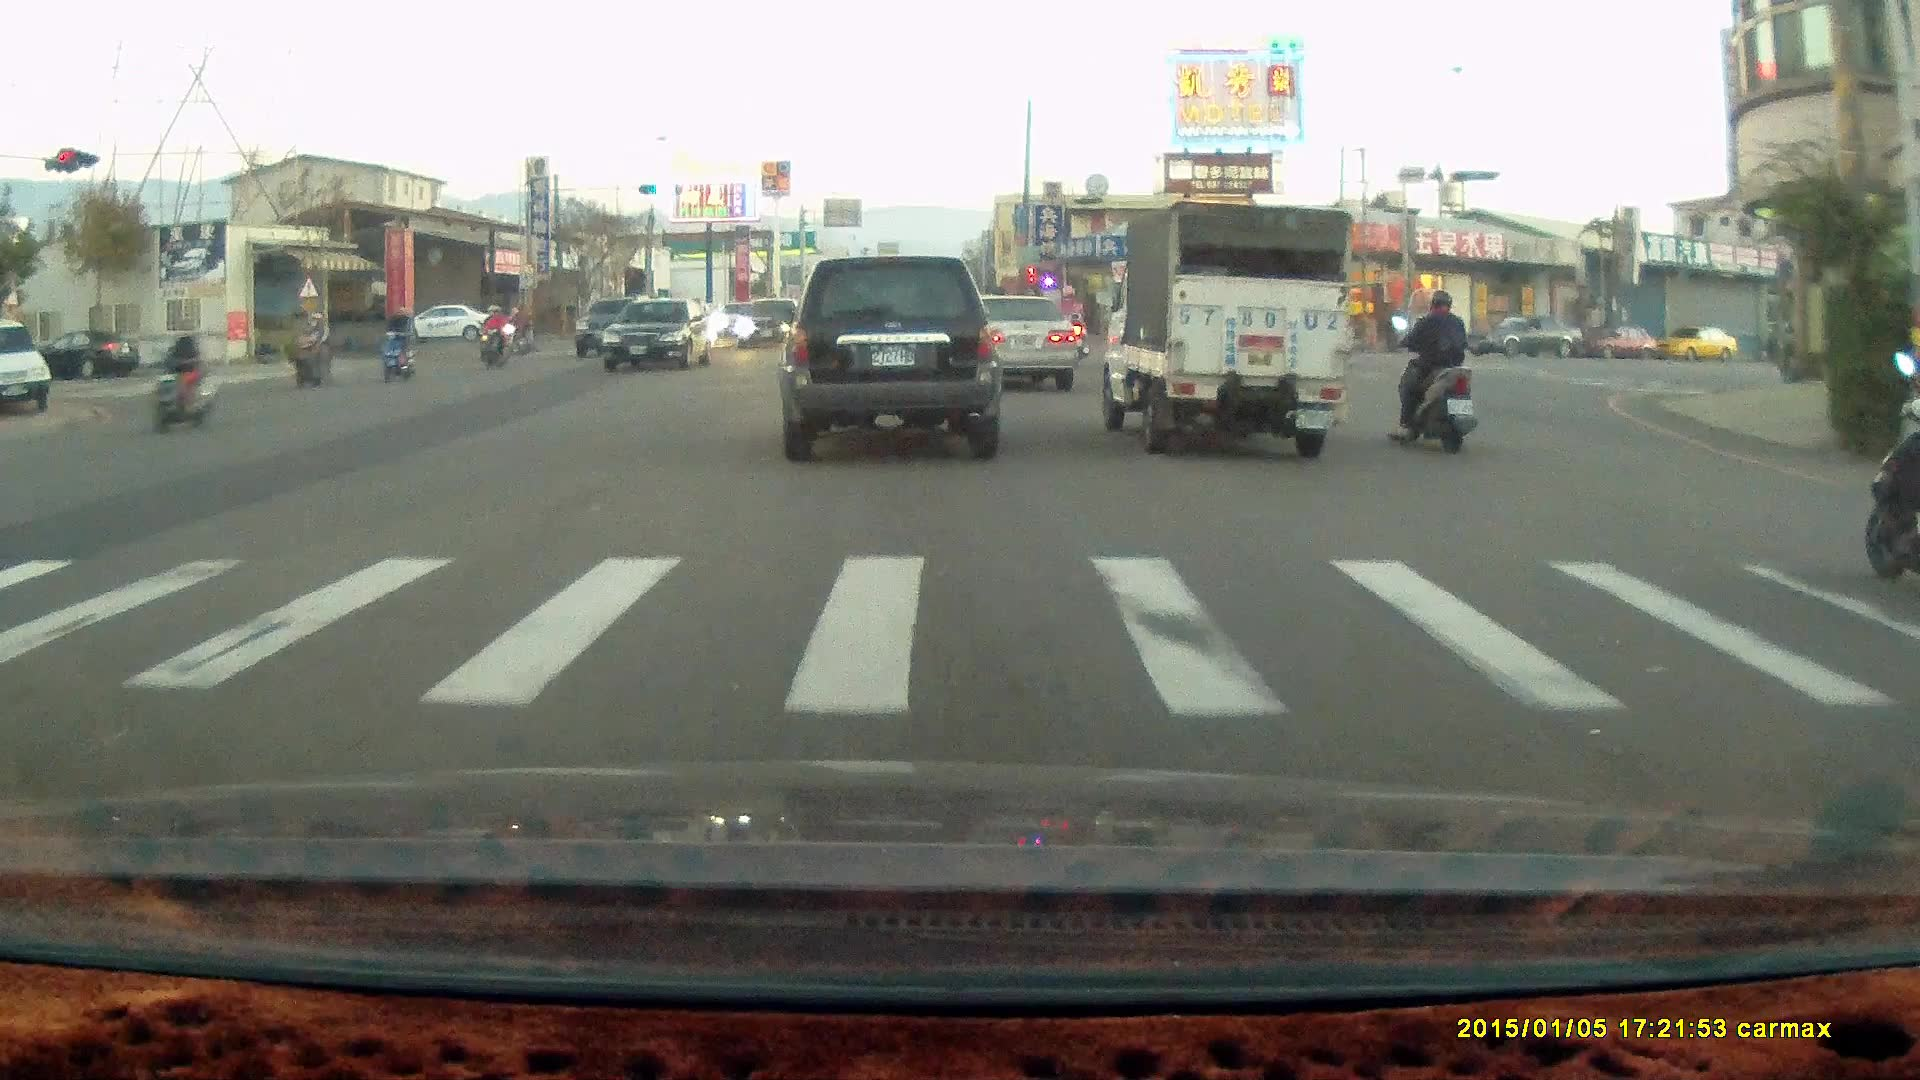rider: (1389, 286, 1479, 452), (1863, 373, 1920, 582), (138, 323, 218, 431), (289, 306, 334, 389), (378, 303, 416, 382), (480, 301, 508, 372)
vehicle: (1092, 201, 1355, 459), (776, 253, 1001, 463), (955, 292, 1080, 392), (960, 291, 1081, 394), (601, 301, 722, 376), (1464, 314, 1585, 361), (1, 314, 54, 413), (733, 295, 800, 352), (415, 303, 498, 344), (1580, 322, 1660, 362), (1654, 328, 1742, 365)
